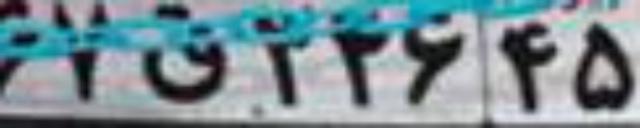3: (250, 5, 316, 108)
4: (331, 10, 385, 106), (497, 22, 554, 112)
5: (568, 21, 637, 111)
6: (395, 9, 472, 106), (0, 0, 40, 108)
7: (49, 1, 116, 103)
ghaf: (132, 5, 230, 104)
